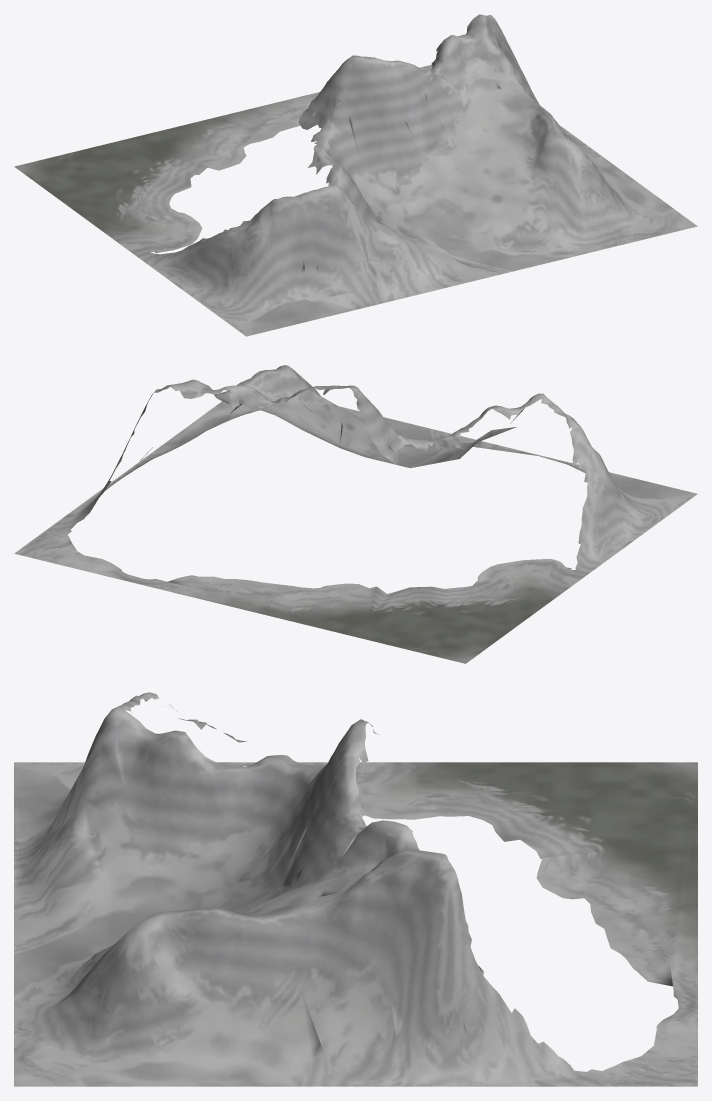
Rendered from mountain-ridge-high.glb.
The picture shows the model from 3 angles, top to bottom: view 1: azimuth 30°, elevation 25°; view 2: azimuth 150°, elevation 25°; view 3: azimuth 270°, elevation 25°; orthographic projection. The views are drawn at different scales.
Visible parts, largest first — view 1: mountain-ridge-high; view 2: mountain-ridge-high; view 3: mountain-ridge-high.
Part boxes in pixels (x1,y1,x2,y2): mountain-ridge-high: [14, 14, 697, 336]; mountain-ridge-high: [14, 365, 697, 663]; mountain-ridge-high: [14, 692, 697, 1086].
Bounding box in the file's own units: 2 × 0.5951 × 1.78.
1 material, 1 textured.
